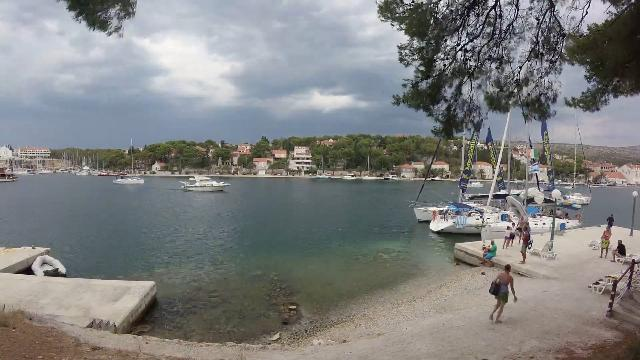Sailboat: (107, 169, 149, 187)
ferry: (174, 169, 233, 197)
